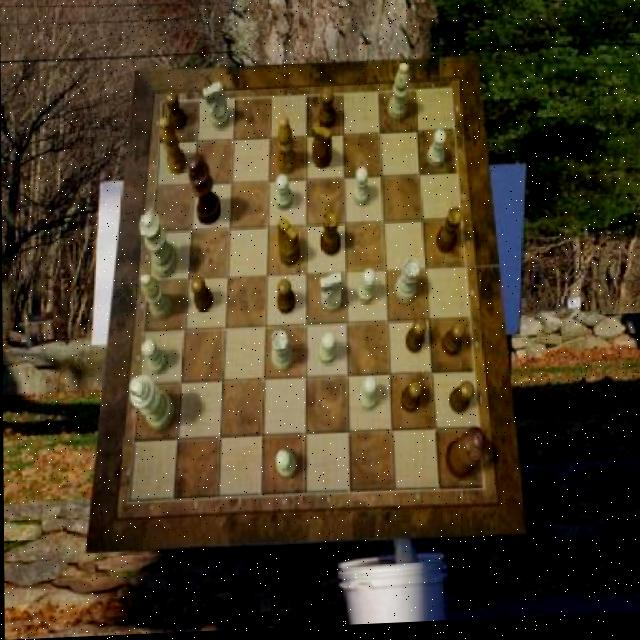bishop: (160, 118, 187, 178), (276, 117, 297, 177)
black-bishop: (188, 155, 221, 227)
black-king: (278, 219, 300, 269), (312, 125, 332, 172)
black-knight: (164, 92, 187, 133), (190, 277, 213, 314), (441, 325, 465, 360), (449, 385, 473, 418), (405, 322, 427, 357), (400, 384, 421, 417), (318, 93, 335, 133), (276, 281, 294, 316)
black-pawn: (443, 431, 486, 485)
black-queen: (436, 210, 463, 257), (319, 213, 340, 259)
black-rook: (140, 274, 171, 321), (386, 66, 409, 125)
white-bishop: (128, 376, 173, 435)
white-king: (203, 84, 230, 133), (319, 276, 342, 315)
white-knight: (141, 340, 167, 377), (425, 134, 446, 172), (356, 271, 375, 308), (352, 170, 369, 210), (359, 379, 378, 414), (274, 178, 292, 213), (317, 335, 336, 368), (274, 453, 295, 481)
white-pawn: (139, 213, 177, 281)
white-queen: (394, 262, 419, 307), (270, 333, 293, 375)
